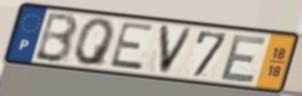7: (192, 29, 230, 78)
B: (31, 11, 80, 65)
E: (217, 33, 269, 84), (107, 21, 157, 73)
Q: (73, 17, 117, 68)
V: (157, 22, 197, 77)
